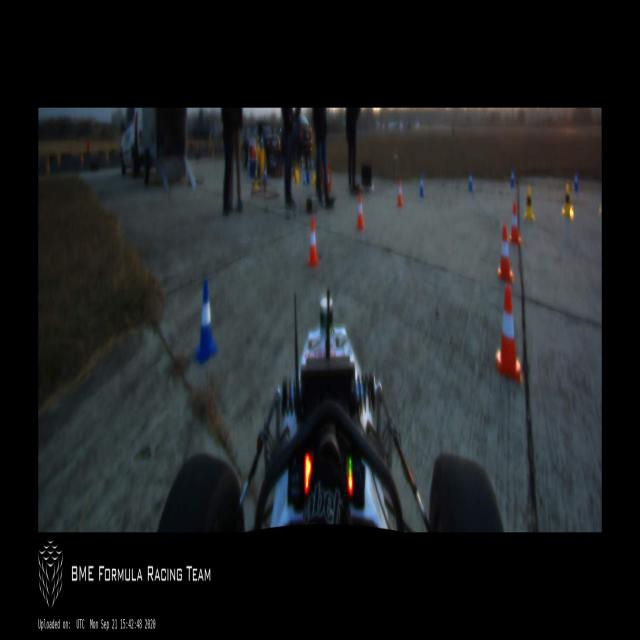blue_cone: (195, 279, 218, 364), (419, 174, 424, 197), (468, 170, 473, 192), (574, 172, 578, 192), (510, 168, 514, 187)
orange_cone: (496, 287, 522, 381), (498, 224, 513, 282), (308, 220, 318, 266), (510, 203, 520, 242), (357, 194, 364, 229), (397, 178, 403, 206)
yellow_cone: (562, 183, 572, 214), (525, 187, 534, 219), (254, 169, 258, 192)
